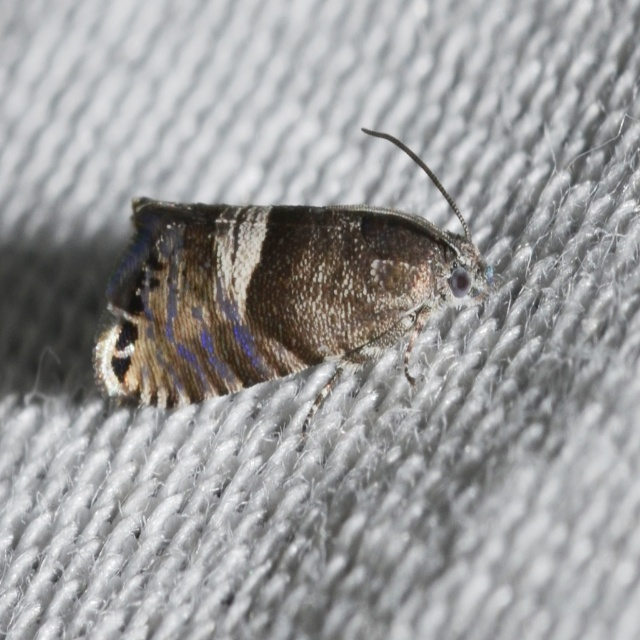Moths and butterflies: (94, 123, 511, 446)
